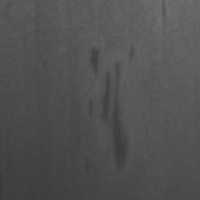inclusion: (82, 43, 132, 174), (85, 40, 104, 81), (157, 1, 169, 26)
